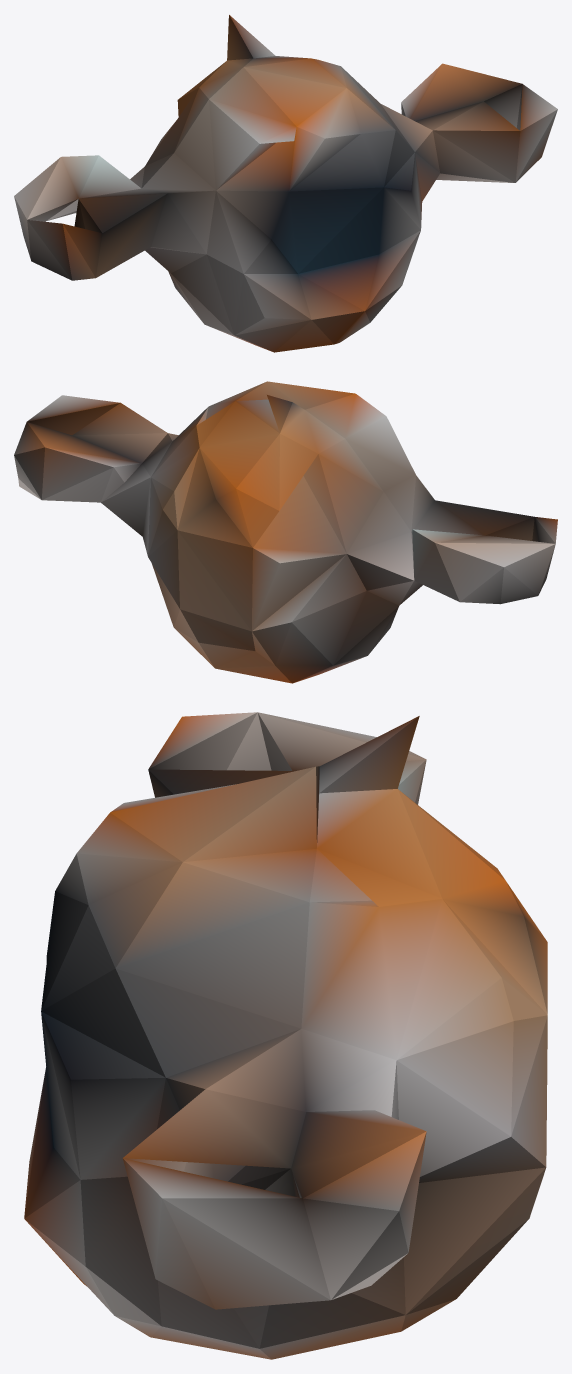
File: drone-bot.glb
The picture shows the model from 3 angles, top to bottom: view 1: azimuth 30°, elevation 25°; view 2: azimuth 150°, elevation 25°; view 3: azimuth 270°, elevation 25°; orthographic projection. The views are drawn at different scales.
Parts seen in each view (by area): view 1: drone-bot-far; view 2: drone-bot-far; view 3: drone-bot-far.
Boxes of the visible parts, <box> form: drone-bot-far: <box>14,15,557,352</box>; drone-bot-far: <box>14,381,557,683</box>; drone-bot-far: <box>24,712,547,1359</box>.
Bounding box in the file's own units: 1.88 × 1.06 × 0.8394.
